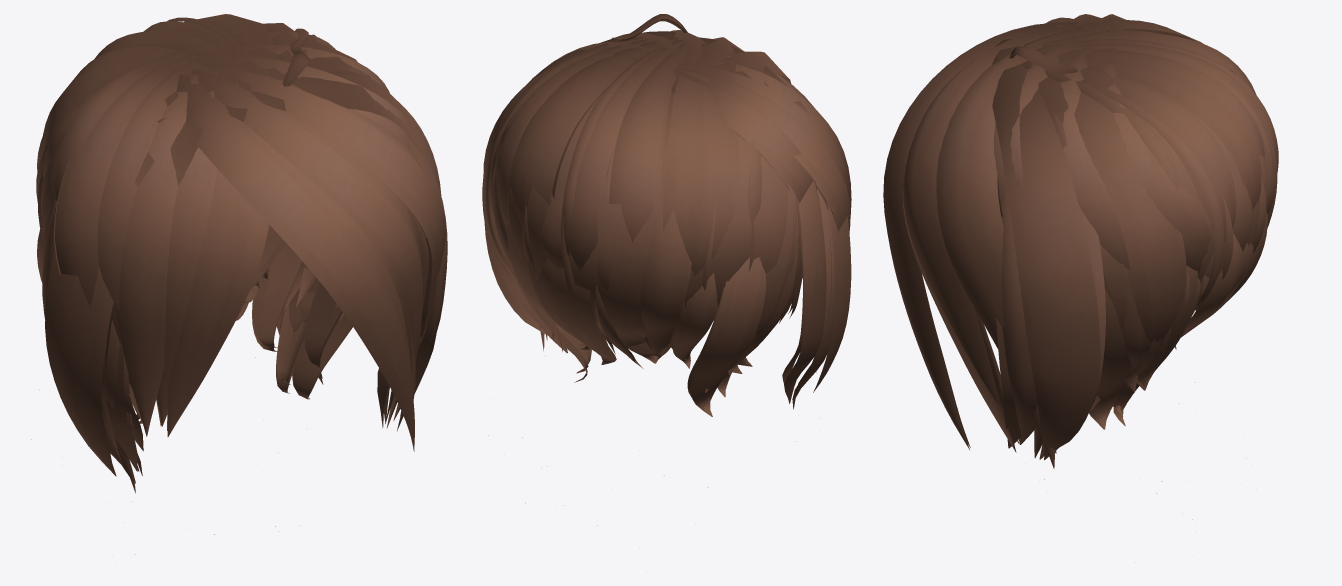
Rendered from vroid_hair_c11v3s.glb.
3 views of the same model, side by side, from view 1: azimuth 30°, elevation 25°; view 2: azimuth 150°, elevation 25°; view 3: azimuth 270°, elevation 25° (orthographic). The views are drawn at different scales.
Visible parts, largest first — view 1: hair; view 2: hair; view 3: hair.
Boxes of the visible parts, left/top/right/bottom form: hair: left=31, top=14, right=447, bottom=554; hair: left=482, top=14, right=851, bottom=525; hair: left=883, top=14, right=1278, bottom=519.
Bounding box in the file's own units: 0.2024 × 0.2737 × 0.2179.
Materials: 1 (1 with a texture image).
